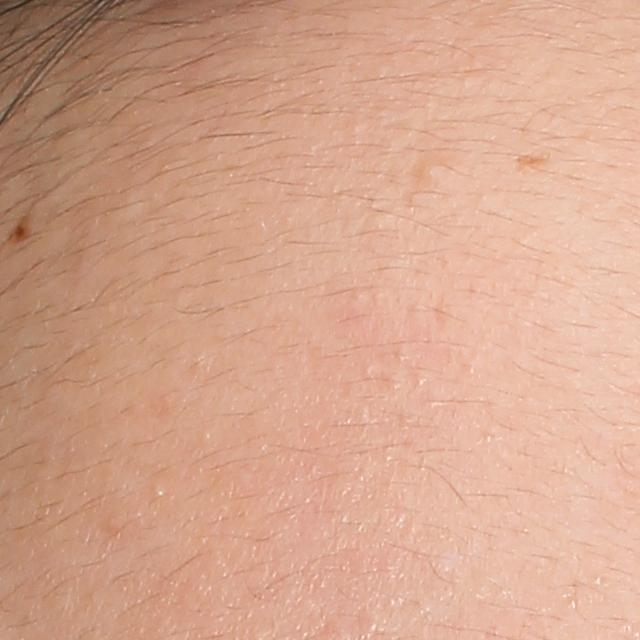atrophic_scar: (514, 152, 547, 170)
comedo: (411, 160, 441, 190), (150, 482, 166, 500)
nevus: (8, 212, 33, 243)
